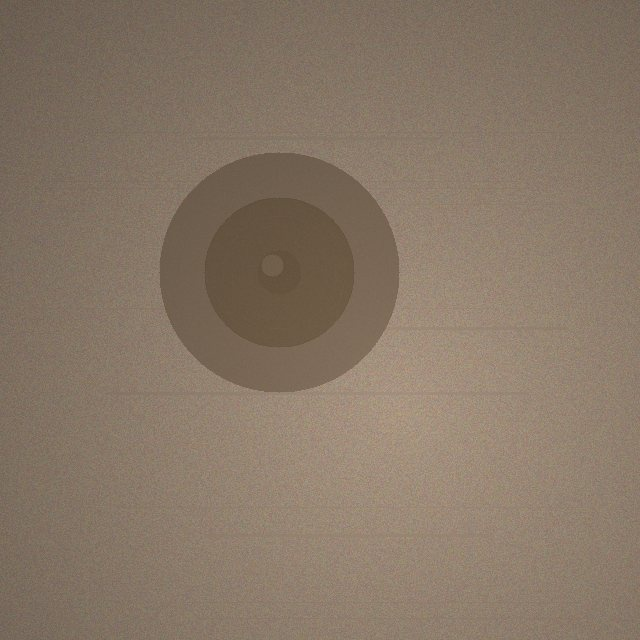good: (159, 152, 399, 392)
